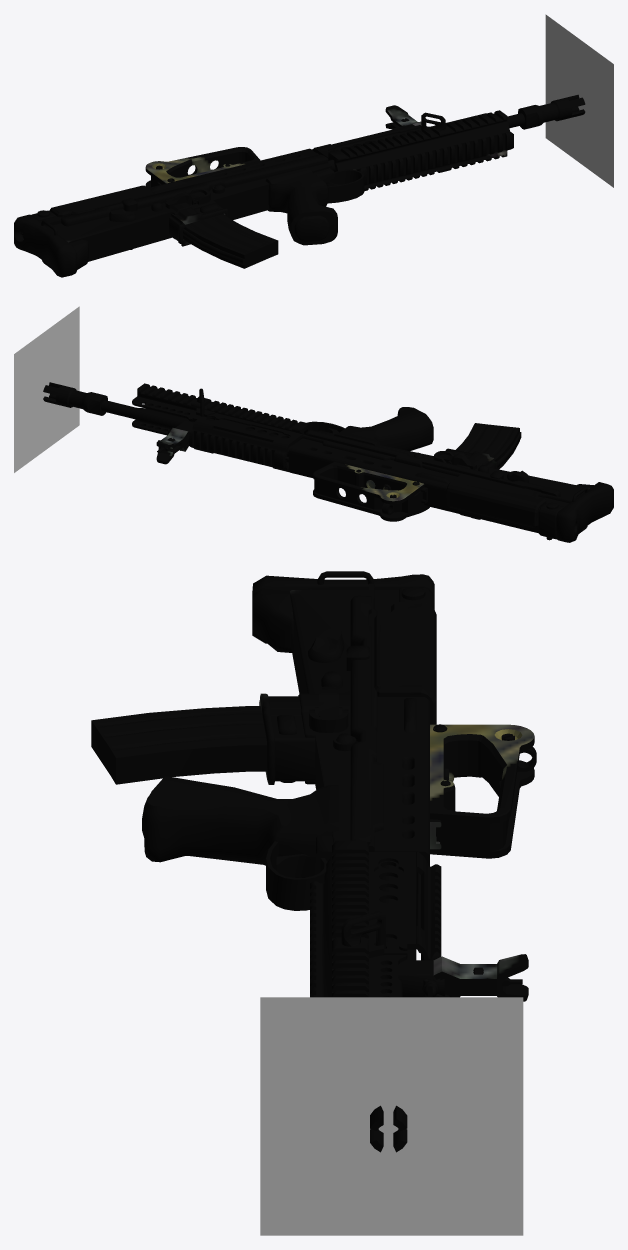
3 renders of one model, top to bottom at view 1: azimuth 30°, elevation 25°; view 2: azimuth 150°, elevation 25°; view 3: azimuth 270°, elevation 25°, orthographic. The views are drawn at different scales.
Parts seen in each view (by area): view 1: gunModel, flashModel, ammoModel, defaultScopeModel; view 2: gunModel, flashModel, defaultScopeModel, ammoModel; view 3: gunModel, flashModel, defaultScopeModel, ammoModel.
Boxes of the visible parts, bbox=[...] form: gunModel: bbox=[14, 94, 585, 277]; flashModel: bbox=[545, 14, 613, 187]; ammoModel: bbox=[183, 214, 278, 268]; defaultScopeModel: bbox=[145, 105, 421, 187]; gunModel: bbox=[43, 382, 613, 542]; flashModel: bbox=[14, 306, 79, 472]; defaultScopeModel: bbox=[156, 428, 424, 521]; ammoModel: bbox=[456, 423, 521, 469]; gunModel: bbox=[142, 571, 445, 1152]; flashModel: bbox=[260, 997, 523, 1235]; defaultScopeModel: bbox=[430, 724, 536, 1001]; ammoModel: bbox=[91, 706, 266, 784].
Bounding box in the file's own units: 21.33 × 4.42 × 7.49.
